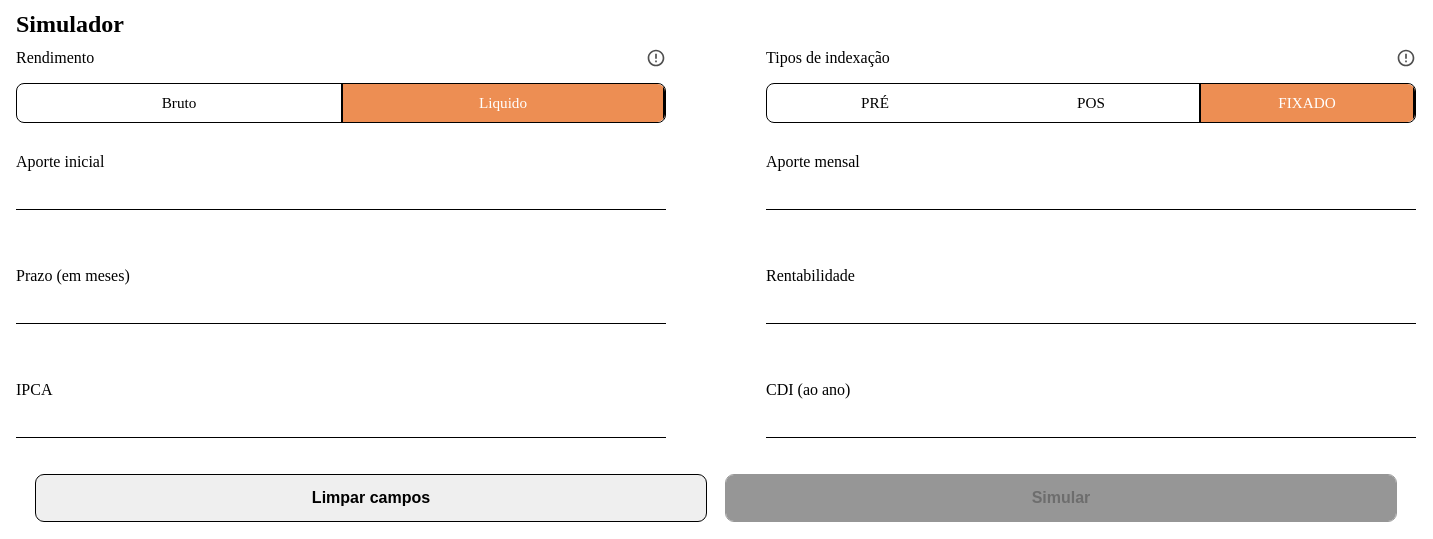
Test case: O botao Simular deve ser habilitado se todos os inputs forem preenchidos
Type "123" into the field labelled "Aporte inicial" at (341, 192), box x1=16 y1=175 x2=666 y2=210
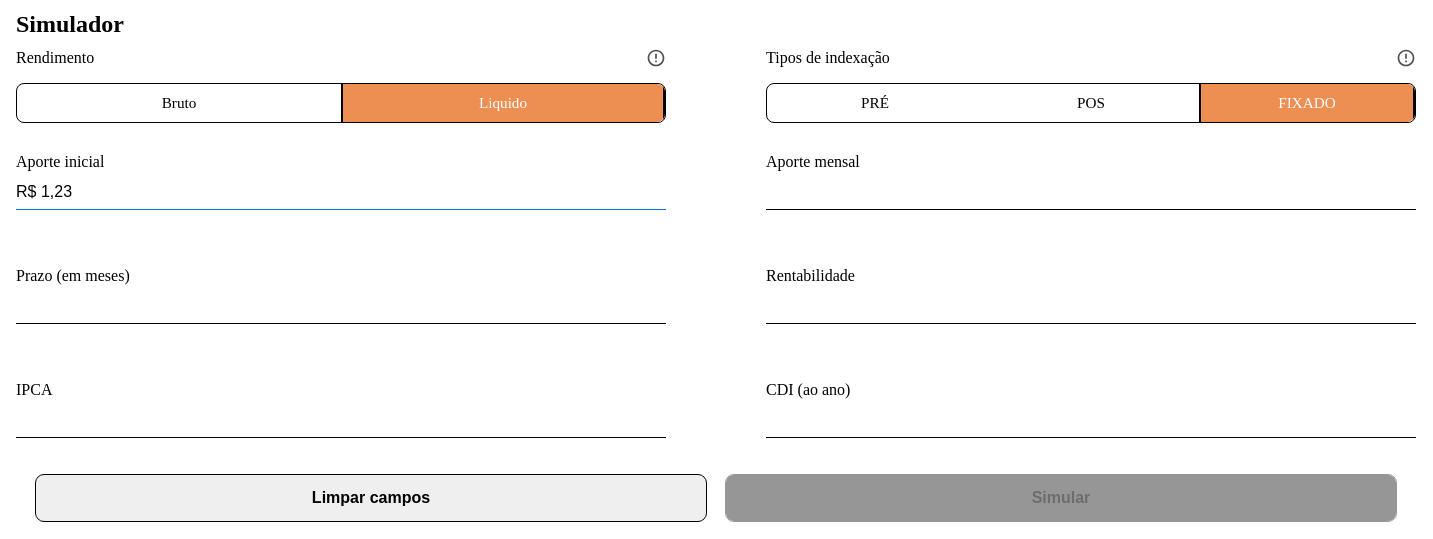
Type "123" into the field labelled "Prazo (em meses)" at (341, 306), box x1=16 y1=289 x2=666 y2=324
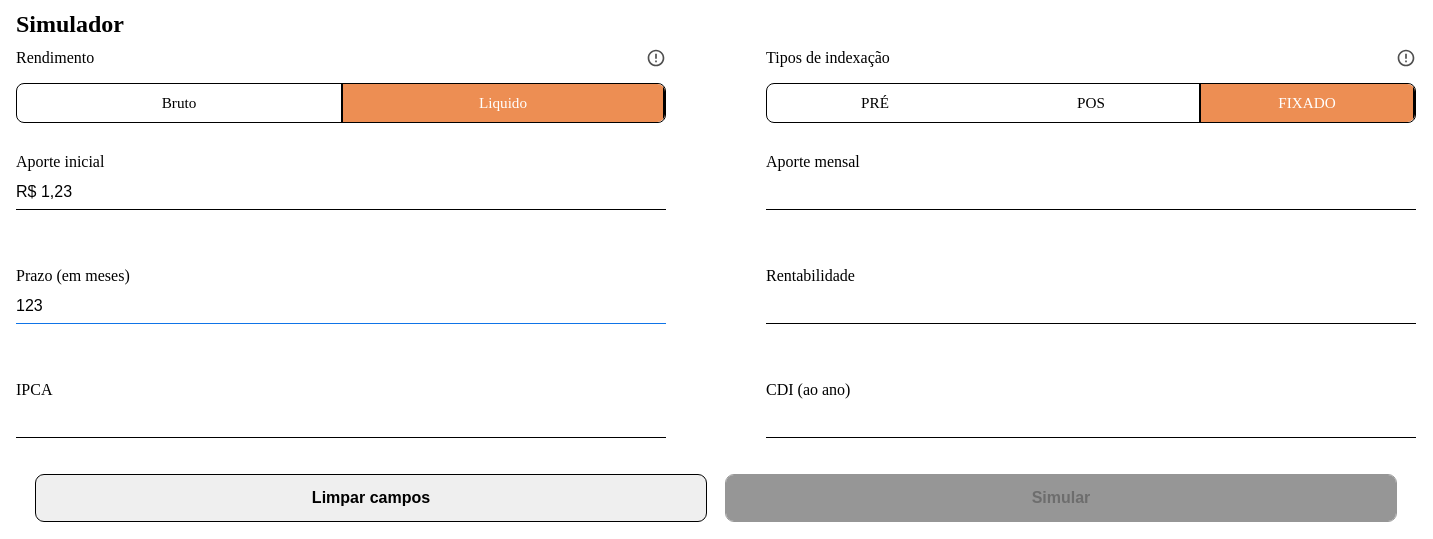
Type "123" into the field labelled "IPCA" at (341, 420), box x1=16 y1=403 x2=666 y2=438
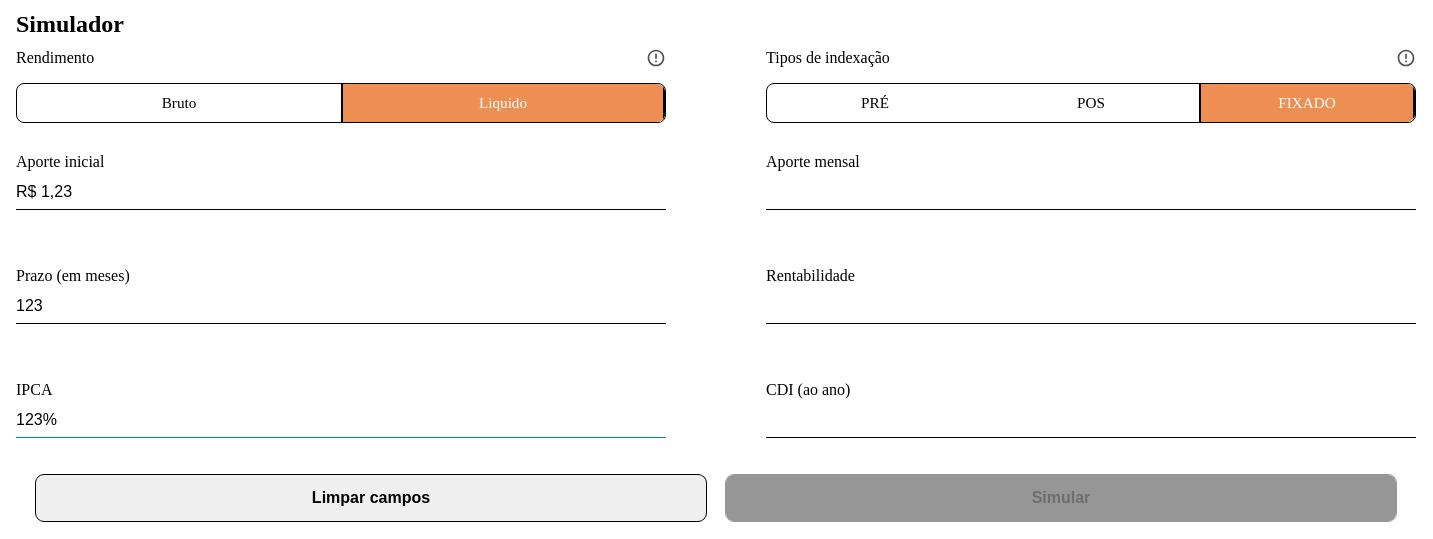
Type "123" into the field labelled "Aporte mensal" at (1091, 192), box x1=766 y1=175 x2=1416 y2=210
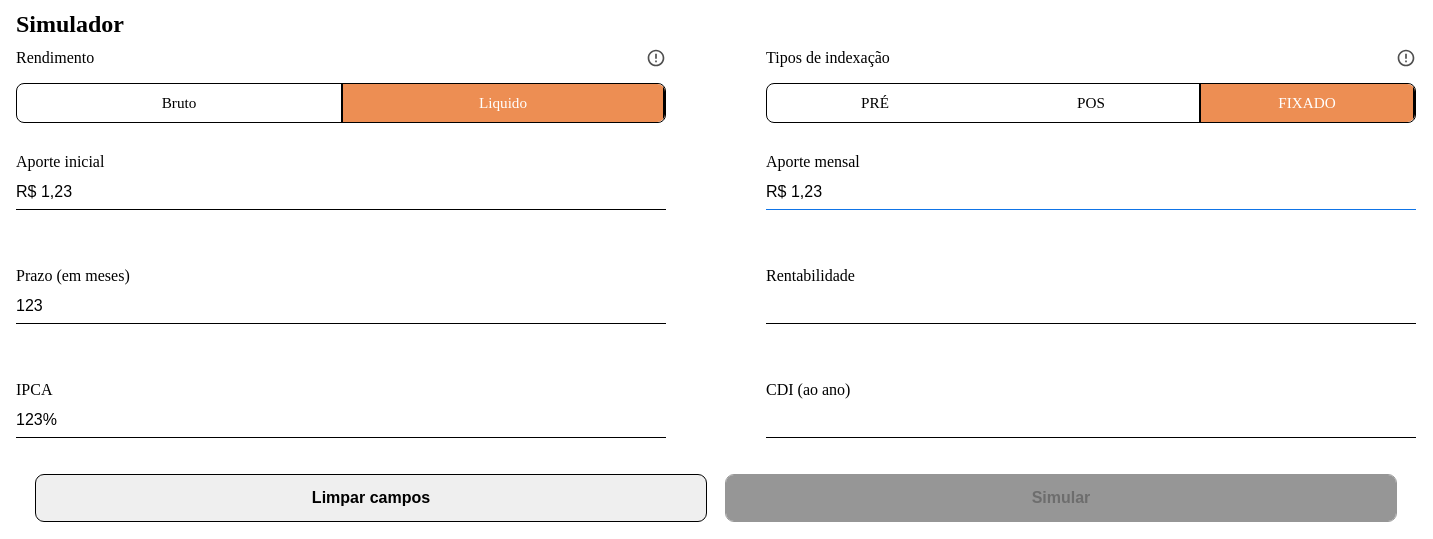
Type "123" into the field labelled "Rentabilidade" at (1091, 306), box x1=766 y1=289 x2=1416 y2=324
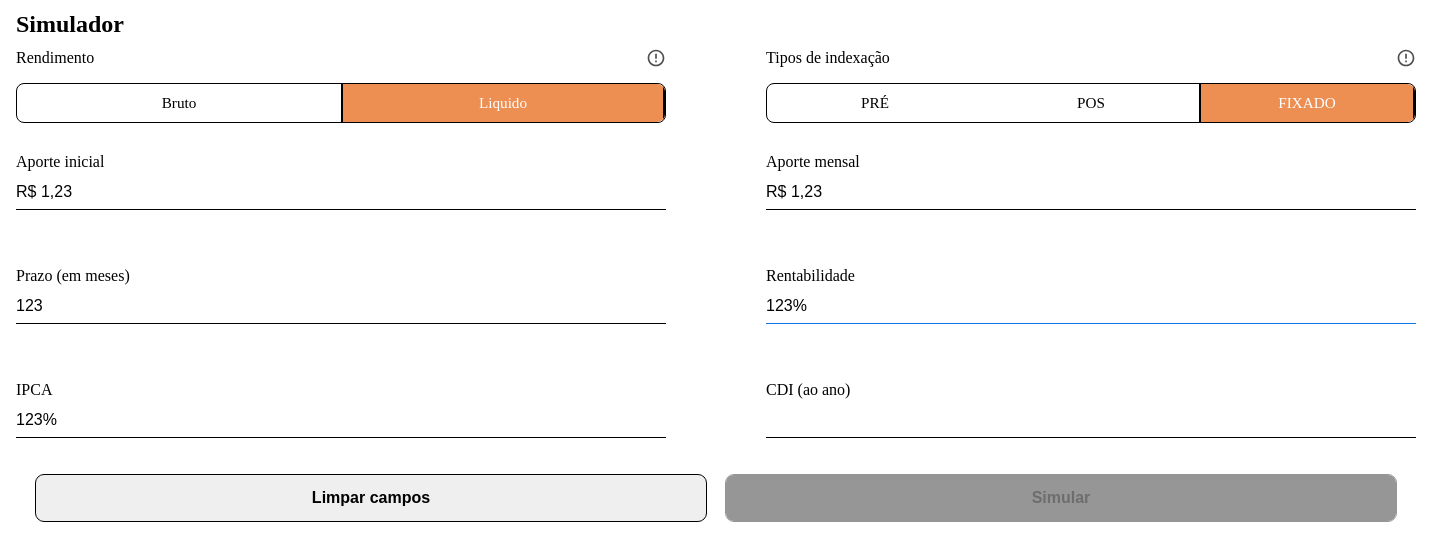
Type "123" into the field labelled "CDI (ao ano)" at (1091, 420), box x1=766 y1=403 x2=1416 y2=438
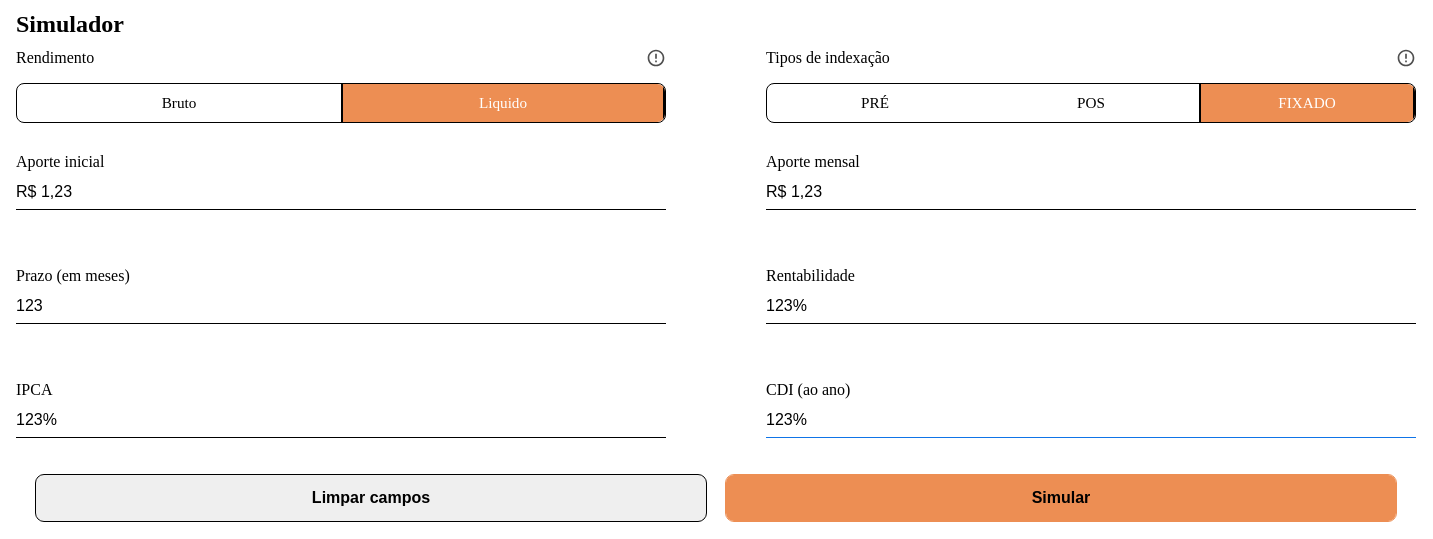
Expected: the button with test id "button_simular" is enabled, x1=726 y1=475 x2=1396 y2=521
